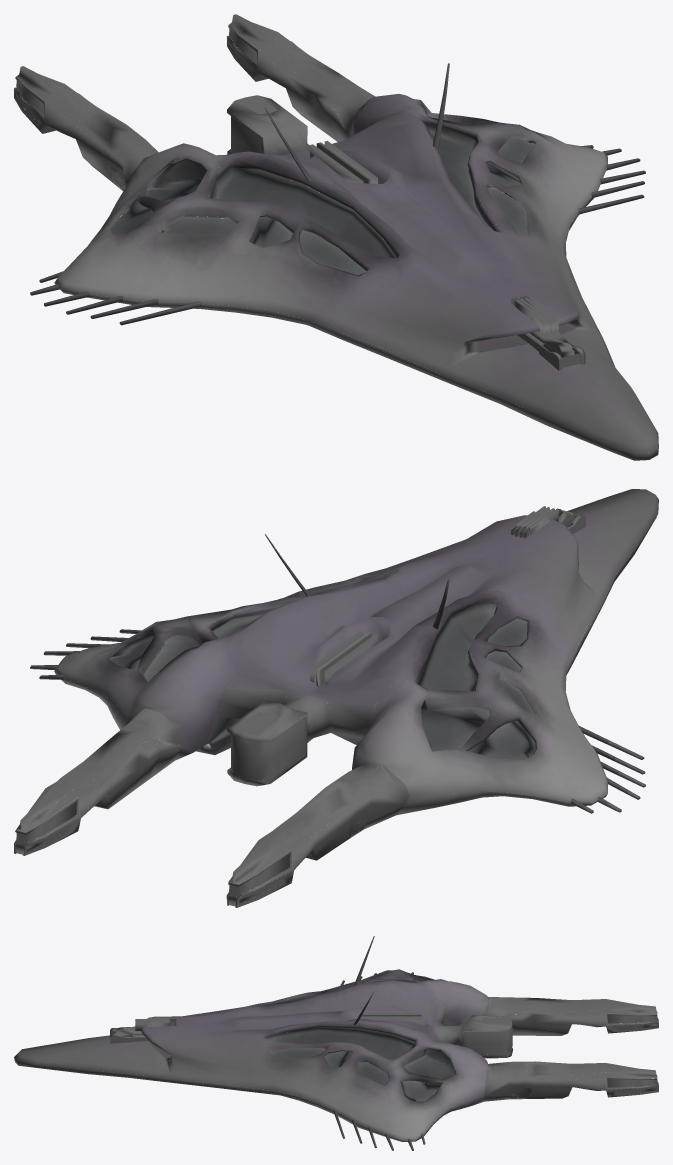
The picture shows the model from 3 angles, top to bottom: view 1: azimuth 30°, elevation 25°; view 2: azimuth 150°, elevation 25°; view 3: azimuth 270°, elevation 25°; orthographic projection. The views are drawn at different scales.
Visible parts, largest first — view 1: Object_3, Object_2; view 2: Object_3, Object_2; view 3: Object_3, Object_2.
Part boxes in pixels (x1=…): Object_3: x1=14, y1=15, x2=658, y2=452; Object_2: x1=14, y1=14, x2=658, y2=460; Object_3: x1=14, y1=489, x2=658, y2=902; Object_2: x1=14, y1=507, x2=657, y2=907; Object_3: x1=14, y1=936, x2=658, y2=1150; Object_2: x1=14, y1=974, x2=658, y2=1141.
Bounding box in the file's own units: 112 × 33.13 × 171.
1 material, 1 textured.
